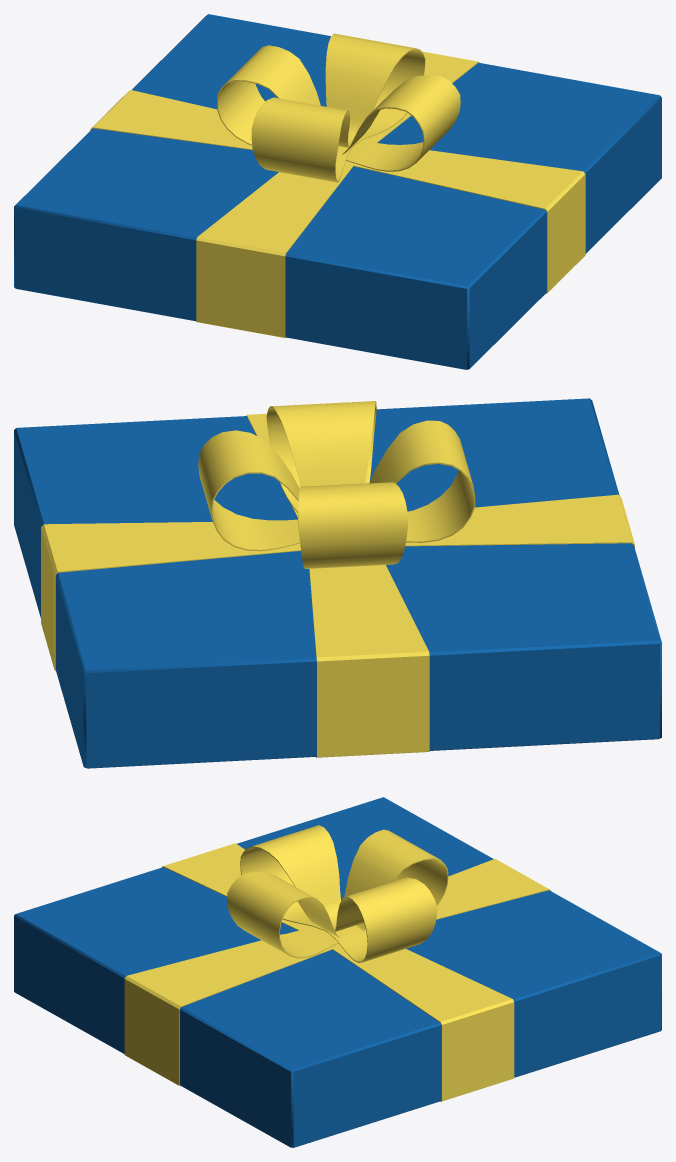
File: Present4_2.fbx
The picture shows the model from 3 angles, top to bottom: view 1: azimuth 30°, elevation 25°; view 2: azimuth 150°, elevation 25°; view 3: azimuth 270°, elevation 25°; orthographic projection. The views are drawn at different scales.
Parts seen in each view (by area): view 1: Present4_2; view 2: Present4_2; view 3: Present4_2.
Part boxes in pixels (bbox=[...]): Present4_2: bbox=[14, 14, 661, 369]; Present4_2: bbox=[14, 398, 661, 768]; Present4_2: bbox=[14, 797, 661, 1147].
Bounding box in the file's own units: 0.6755 × 0.1713 × 0.6754.
